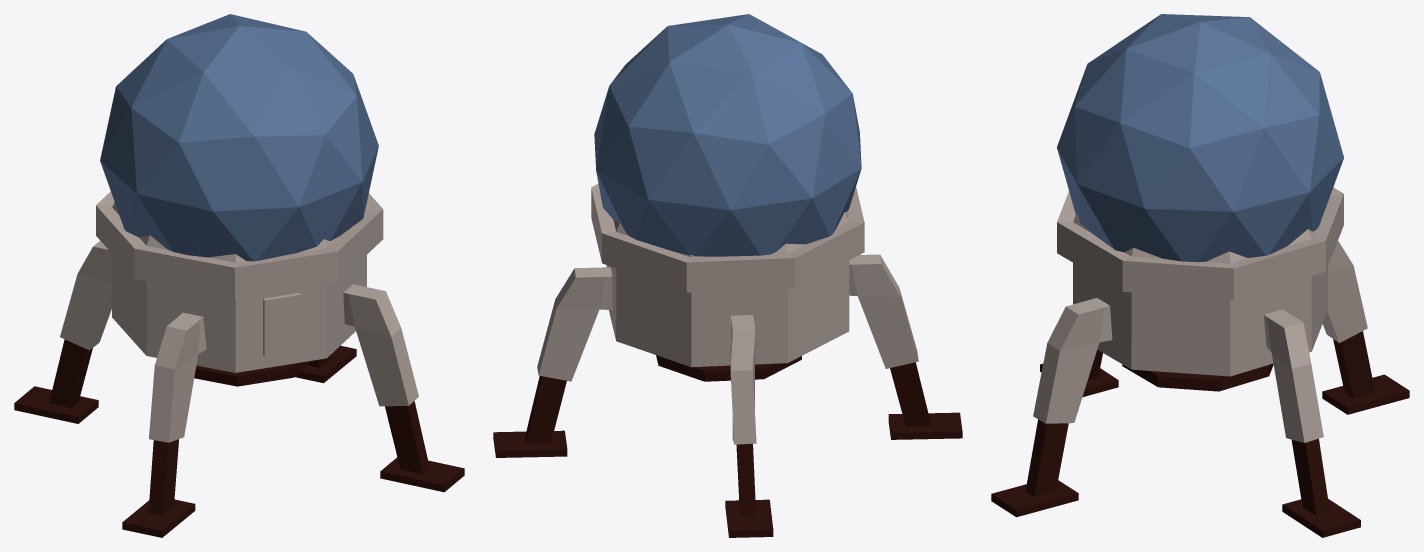
Rendered from SpaceShip02.fbx.
3 renders of one model, left to right at view 1: azimuth 30°, elevation 25°; view 2: azimuth 150°, elevation 25°; view 3: azimuth 270°, elevation 25°, orthographic. The views are drawn at different scales.
Visible parts, largest first — view 1: Icosphere, Cylinder, Cube.002, Cube.003, Cube.004, Cube; view 2: Icosphere, Cylinder, Cube, Cube.003, Cube.004; view 3: Icosphere, Cylinder, Cube.002, Cube, Cube.004, Cube.003.
Part boxes in pixels (<box>): Icosphere: <box>100,14,378,261</box>; Cylinder: <box>96,191,383,386</box>; Cube.002: <box>343,284,464,492</box>; Cube.003: <box>122,312,206,537</box>; Cube.004: <box>14,240,111,423</box>; Cube: <box>295,345,356,383</box>; Icosphere: <box>594,14,861,256</box>; Cylinder: <box>591,183,864,381</box>; Cube: <box>493,267,612,457</box>; Cube.003: <box>849,254,962,439</box>; Cube.004: <box>725,315,773,537</box>; Icosphere: <box>1057,14,1343,262</box>; Cylinder: <box>1057,187,1343,391</box>; Cube.002: <box>991,298,1112,517</box>; Cube: <box>1263,309,1360,537</box>; Cube.004: <box>1322,241,1409,414</box>; Cube.003: <box>1040,350,1118,397</box>.
Bounding box in the file's own units: 277 × 312 × 277.
